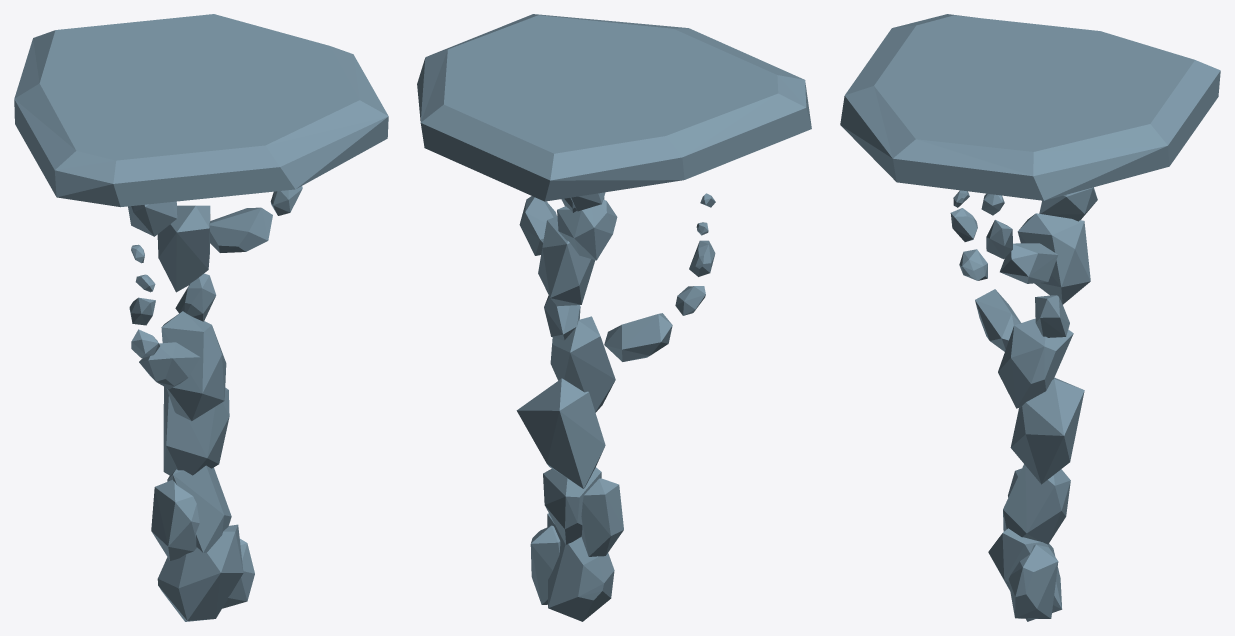
Rendered from StoneTree5.fbx.
The picture shows the model from 3 angles, left to right: view 1: azimuth 30°, elevation 25°; view 2: azimuth 150°, elevation 25°; view 3: azimuth 270°, elevation 25°; orthographic projection. The views are drawn at different scales.
Visible parts, largest first — view 1: Cube.083, Cube.109, Cube.112, Cube.111, Cube.113, Cube.127, Cube.110, Cube.117, Cube.121, Cube.115, Cube.114, Cube.126 (+3 smaller); view 2: Cube.083, Cube.111, Cube.109, Cube.112, Cube.113, Cube.127, Cube.115, Cube.110, Cube.121, Cube.126, Cube.117, Cube.114 (+2 smaller); view 3: Cube.083, Cube.111, Cube.112, Cube.113, Cube.110, Cube.126, Cube.117, Cube.109, Cube.121, Cube.114, Cube.115, Cube.118 (+2 smaller).
Part boxes in pixels (x1,y1,x2,y2): Cube.083: (14, 14, 388, 207); Cube.109: (157, 524, 243, 621); Cube.112: (161, 311, 226, 420); Cube.111: (163, 386, 229, 475); Cube.113: (157, 205, 210, 292); Cube.127: (151, 479, 199, 560); Cube.110: (167, 465, 231, 552); Cube.117: (210, 207, 272, 252); Cube.121: (139, 342, 200, 389); Cube.115: (128, 201, 177, 236); Cube.114: (175, 273, 216, 321); Cube.126: (222, 538, 254, 608); Cube.083: (417, 14, 811, 201); Cube.111: (516, 378, 605, 488); Cube.109: (547, 513, 614, 621); Cube.112: (550, 316, 615, 412); Cube.113: (538, 216, 595, 306); Cube.127: (581, 478, 623, 556); Cube.115: (557, 199, 617, 260); Cube.110: (543, 467, 601, 544); Cube.121: (604, 313, 672, 361); Cube.126: (530, 525, 560, 604); Cube.117: (519, 196, 556, 255); Cube.114: (544, 295, 580, 340); Cube.083: (840, 14, 1220, 200); Cube.111: (1010, 377, 1084, 484); Cube.112: (998, 318, 1073, 408); Cube.113: (1017, 213, 1090, 304); Cube.110: (1003, 464, 1070, 544); Cube.126: (1008, 544, 1058, 618); Cube.117: (1000, 243, 1057, 283); Cube.109: (988, 528, 1062, 621); Cube.121: (975, 289, 1020, 351); Cube.114: (1035, 295, 1069, 337); Cube.115: (1039, 187, 1097, 221); Cube.118: (986, 220, 1012, 259).
Bounding box in the file's own units: 2418 × 3630 × 2364.
